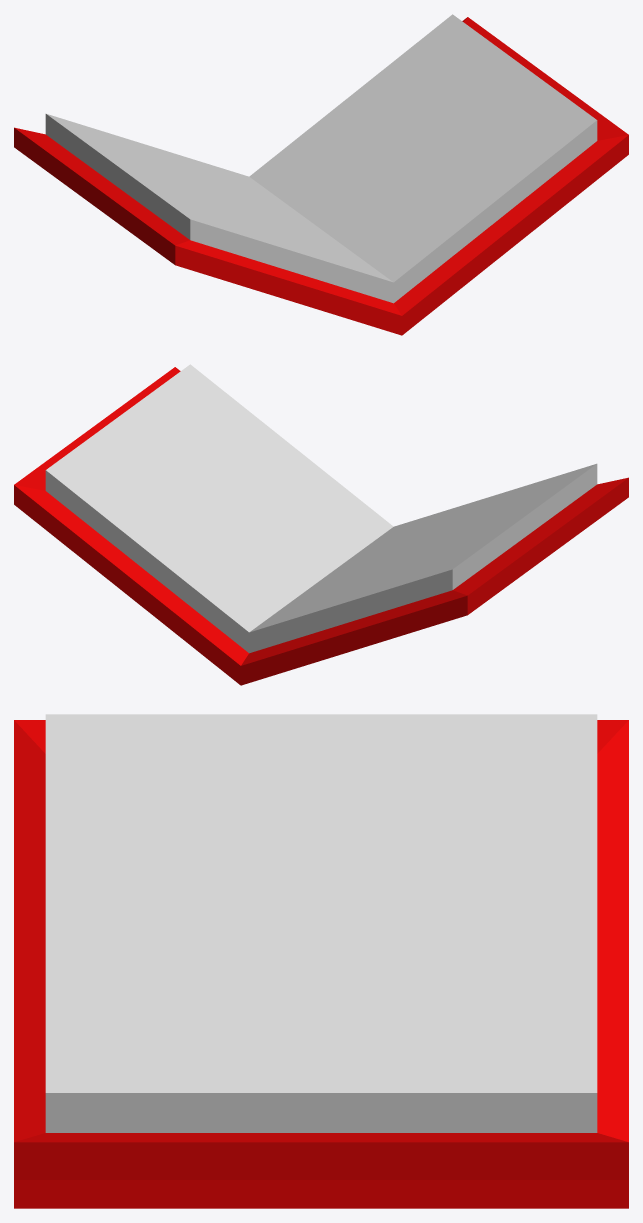
The model's file is book.fbx.
3 views of the same model, one above another, from view 1: azimuth 30°, elevation 25°; view 2: azimuth 150°, elevation 25°; view 3: azimuth 270°, elevation 25° (orthographic). The views are drawn at different scales.
Visible parts, largest first — view 1: pCube1; view 2: pCube1; view 3: pCube1.
Part boxes in pixels (left/top/right/bottom): pCube1: left=14, top=14, right=628, bottom=335; pCube1: left=14, top=364, right=628, bottom=685; pCube1: left=14, top=714, right=628, bottom=1208.
Bounding box in the file's own units: 2.26 × 0.7604 × 1.39.
